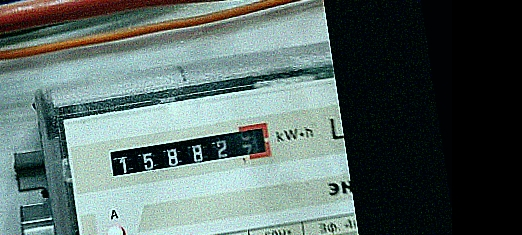1: (116, 153, 128, 172)
2: (214, 136, 229, 158)
5: (138, 149, 155, 170)
7: (239, 140, 252, 153)
8: (188, 140, 204, 163), (165, 145, 180, 166)
screen: (103, 119, 276, 183)
